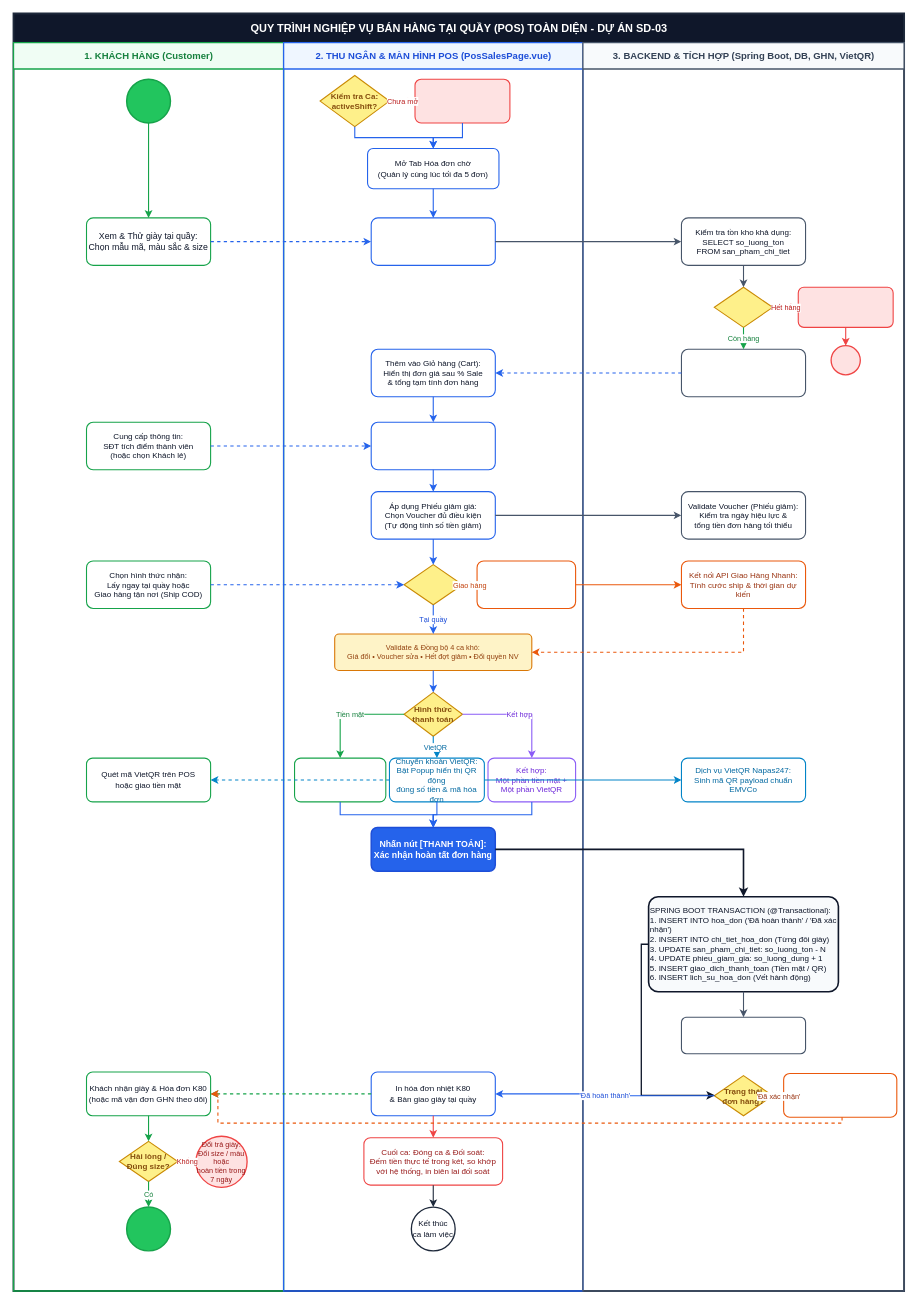
This 918x1305 diagram has some shape labels left out. Each missing label, with the centre of its shape:
Báo hết hàng / Gợi ý mẫu hoặc size khác: the point at 845,307
Bắt đầu: the point at 148,100
Chọn Khách hàng: Tìm kiếm theo SĐT / Họ tên (hoặc tạo nhanh khách mới): the point at 433,445
Còn hàng?: the point at 743,307
Cập nhật Doanh thu vào Ca: Cộng dồn tiền mặt & CK vào Ca trực: the point at 743,1035
Giao hàng tận nơi?: the point at 433,584
Hoàn thành đơn hàng: the point at 148,1228
Kết thúc: the point at 845,360
Mở Ca: Khai báo tiền ban đầu trong két: the point at 462,100
Nhập địa chỉ giao hàng: Tỉnh, Huyện, Phường, Địa chỉ: the point at 526,584
Quét mã Barcode / SKU: Lọc Size, Màu, Số lượng: the point at 433,241
Tiền mặt: Nhập tiền khách đưa & Hệ thống tự tính tiền thừa: the point at 340,779
Áp dụng Đợt giảm giá (%): Tính đơn giá sau khuyến mãi và đưa vào giỏ hàng: the point at 743,372
Đẩy đơn sang GHN: Tạo mã vận đơn, in phiếu giao & lưu trạng thái 'Chờ giao hàng': the point at 840,1095
